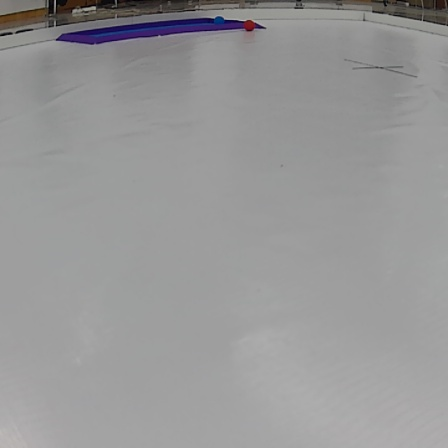blue: (213, 15, 226, 26)
blue_aim: (58, 14, 267, 46)
red: (244, 18, 257, 31)
